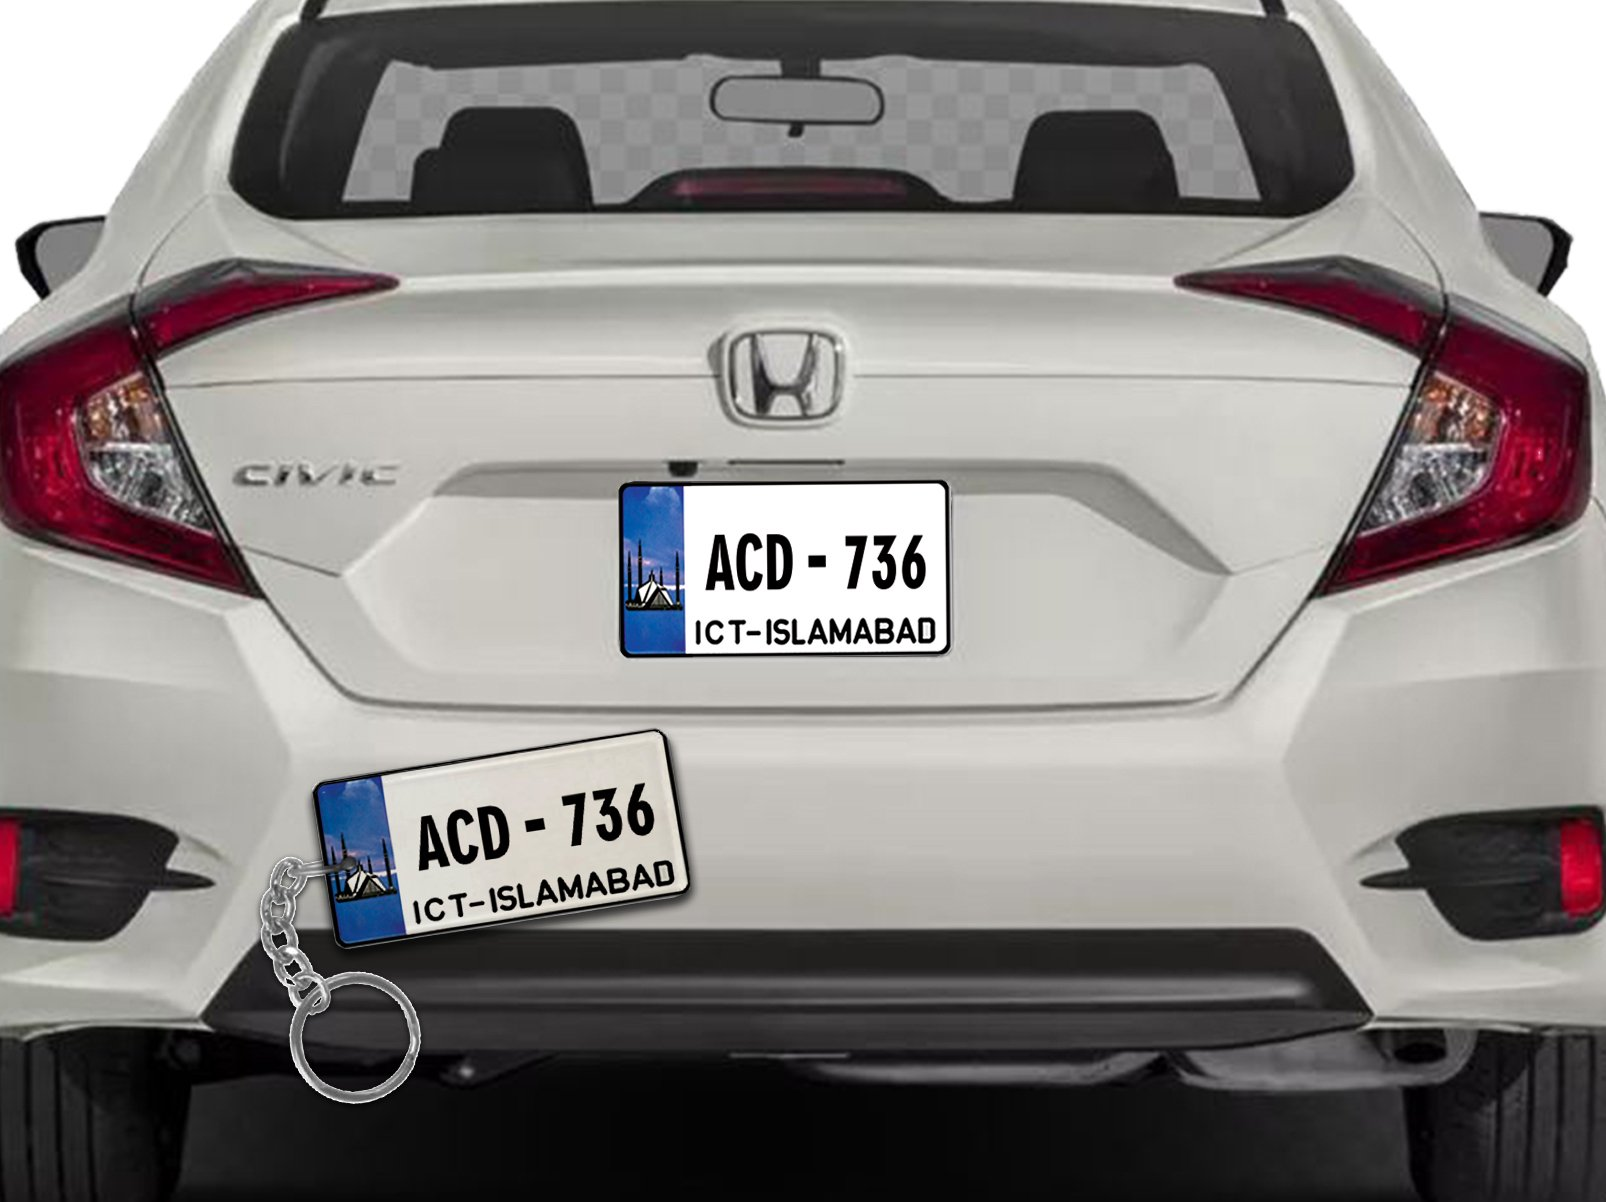plate: (307, 719, 692, 959), (612, 475, 958, 661)
